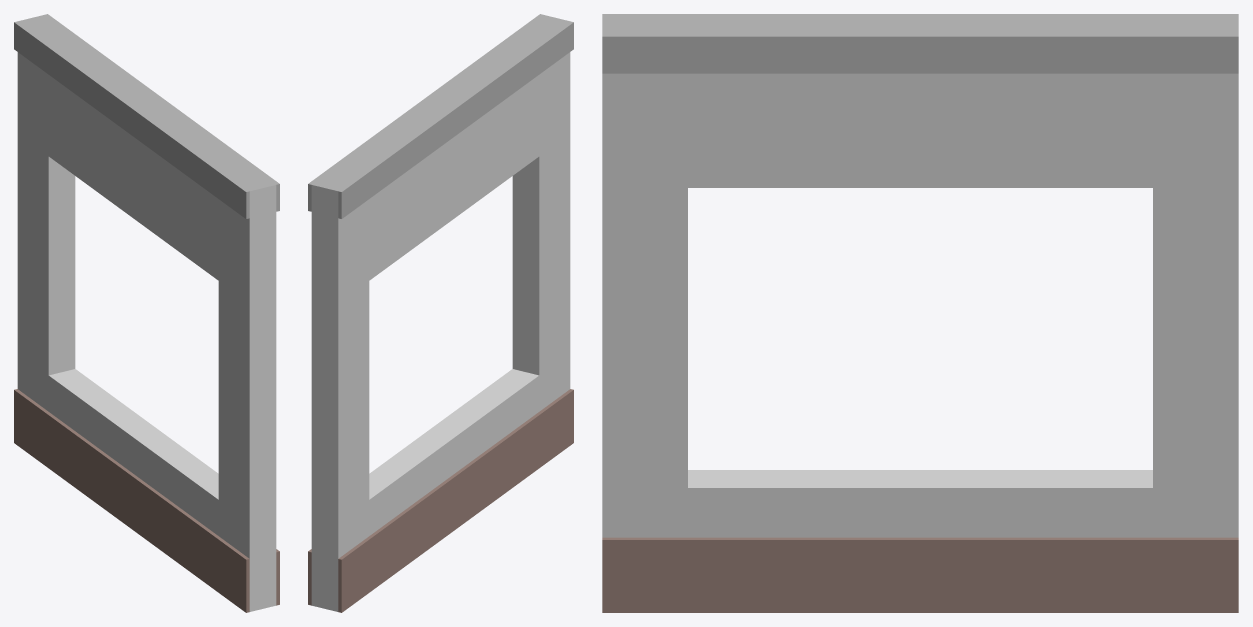
File: Wall05.fbx
3 renders of one model, left to right at view 1: azimuth 30°, elevation 25°; view 2: azimuth 150°, elevation 25°; view 3: azimuth 270°, elevation 25°, orthographic. The views are drawn at different scales.
Parts seen in each view (by area): view 1: Wall05; view 2: Wall05; view 3: Wall05.
Boxes of the visible parts, box(x1,y1,x2,y2) form: Wall05: box(14, 14, 279, 612); Wall05: box(308, 14, 573, 612); Wall05: box(602, 14, 1238, 612).
Size of the model in its own units: 0.2519 by 3 by 3.
